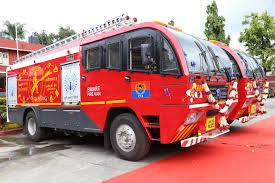Emergency-Vehicles: (14, 14, 271, 153)
